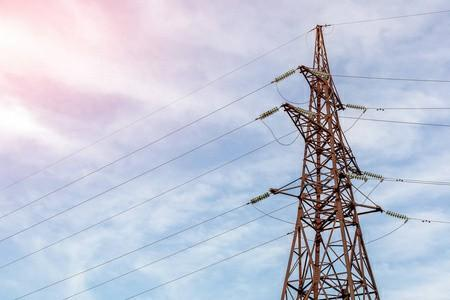power_tower: (247, 18, 398, 300)
